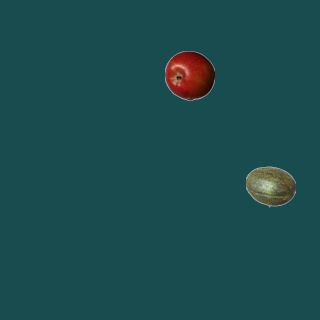Apple Braeburn: (164, 50, 214, 100)
Melon Piel de Sapo: (245, 161, 295, 211)
